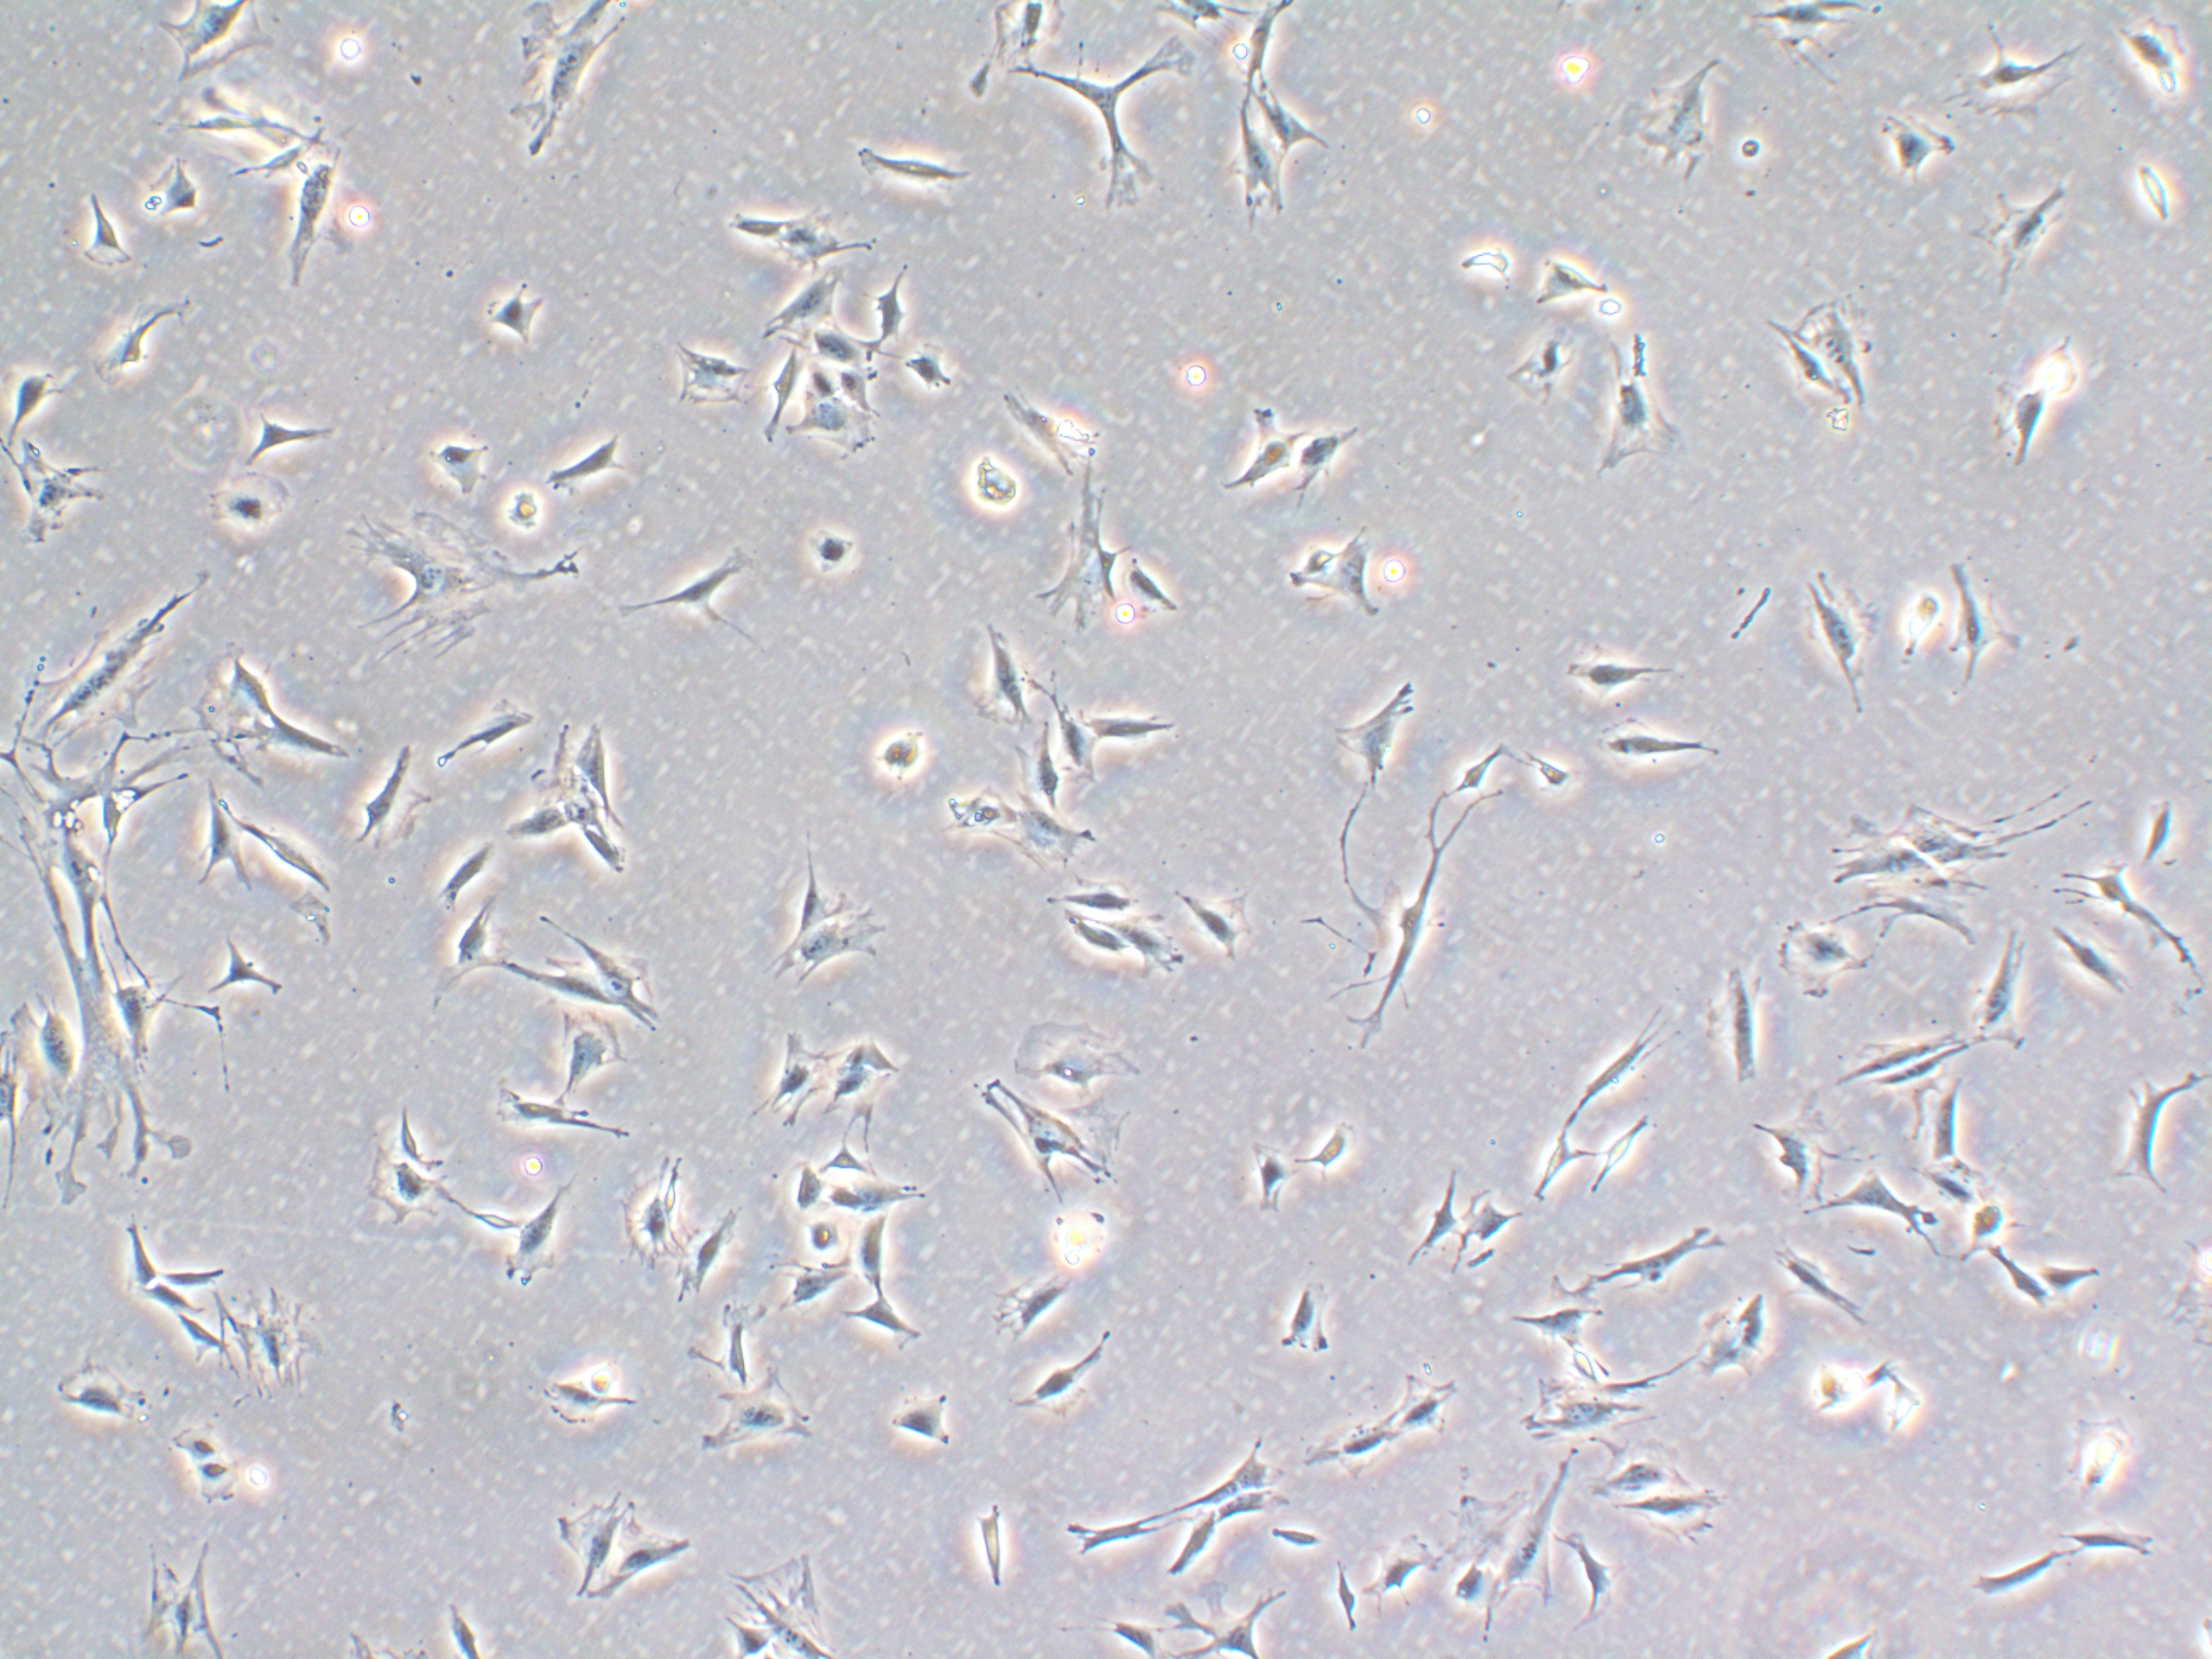small: (1291, 1098, 1374, 1201), (1892, 544, 1954, 680), (2118, 150, 2193, 247), (1371, 526, 1451, 617), (960, 1493, 1021, 1607), (2127, 775, 2193, 877), (1529, 739, 1609, 821), (798, 511, 880, 586), (160, 1457, 240, 1527), (2050, 1513, 2175, 1556), (2033, 1246, 2114, 1312), (1449, 727, 1515, 796), (1254, 1511, 1336, 1567), (482, 490, 556, 542), (164, 1415, 235, 1462), (787, 1215, 846, 1260)
spread: (28, 840, 174, 1197), (327, 502, 573, 657), (14, 575, 200, 765), (1815, 796, 2034, 950), (1409, 1460, 1575, 1659), (498, 0, 653, 185), (963, 1089, 1174, 1213), (214, 1279, 361, 1420), (716, 1546, 892, 1659), (1615, 40, 1742, 192), (685, 1371, 833, 1466), (989, 1014, 1155, 1096)
